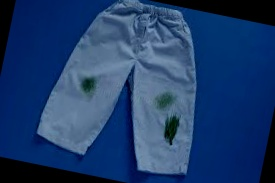earth: (162, 115, 182, 143), (155, 91, 172, 110), (82, 77, 96, 94)
